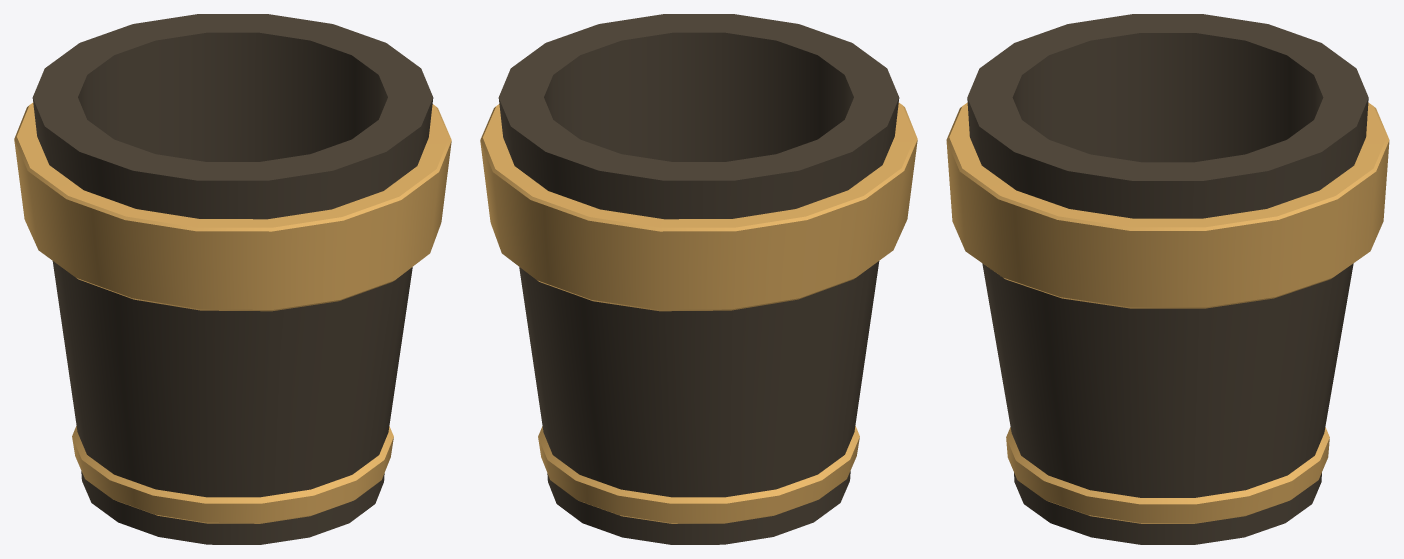
The model's file is copoDagua.fbx.
3 views of the same model, side by side, from view 1: azimuth 30°, elevation 25°; view 2: azimuth 150°, elevation 25°; view 3: azimuth 270°, elevation 25° (orthographic).
Parts seen in each view (by area): view 1: Copo Dágua; view 2: Copo Dágua; view 3: Copo Dágua.
Part boxes in pixels (x1=…): Copo Dágua: x1=14, y1=14, x2=451, y2=544; Copo Dágua: x1=480, y1=14, x2=917, y2=544; Copo Dágua: x1=946, y1=14, x2=1389, y2=544.
Bounding box in the file's own units: 126 × 125 × 130.
